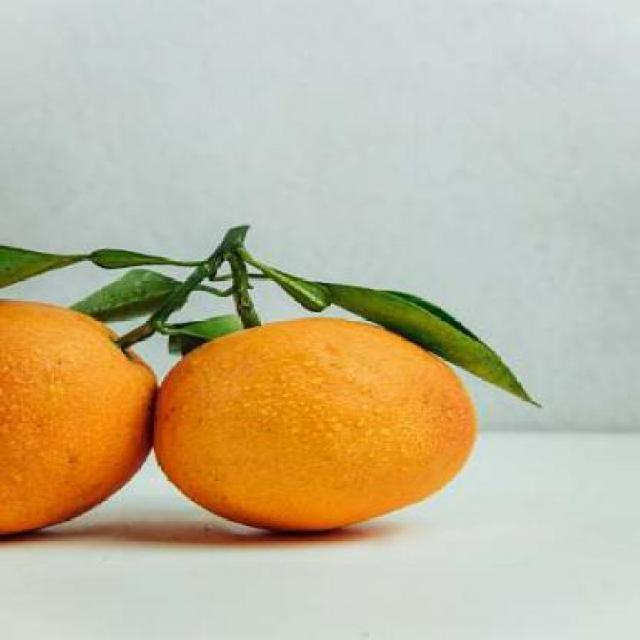Jeruk Sudah Matang: (152, 316, 474, 530), (0, 300, 158, 541)
